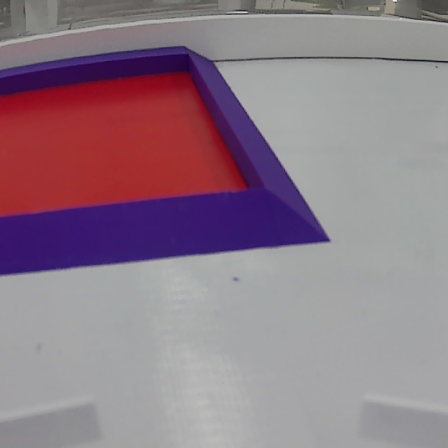red_aim: (0, 46, 330, 277)
